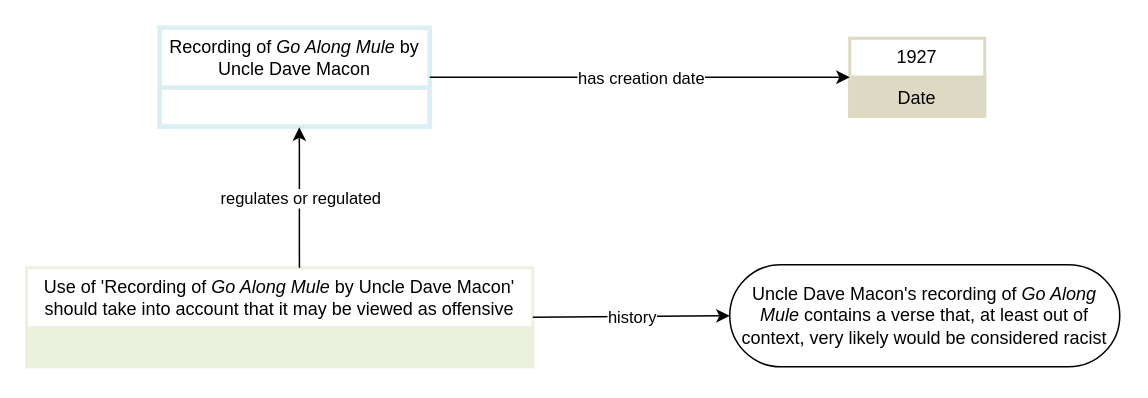
This 1148x398 diagram has some shape labels left out. The centre of each missing label's shape, as x and y in pixels:
"Record" goes at point 294,106.
"Rule" goes at point 279,347.
